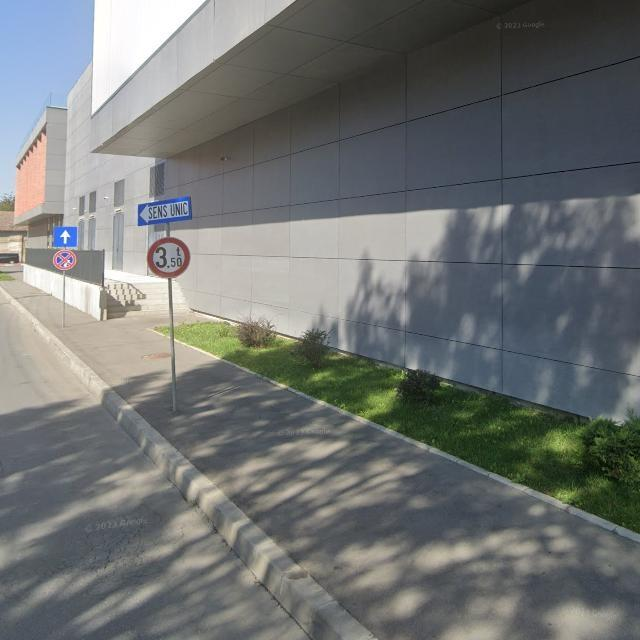forb_waiting: (54, 250, 77, 272)
